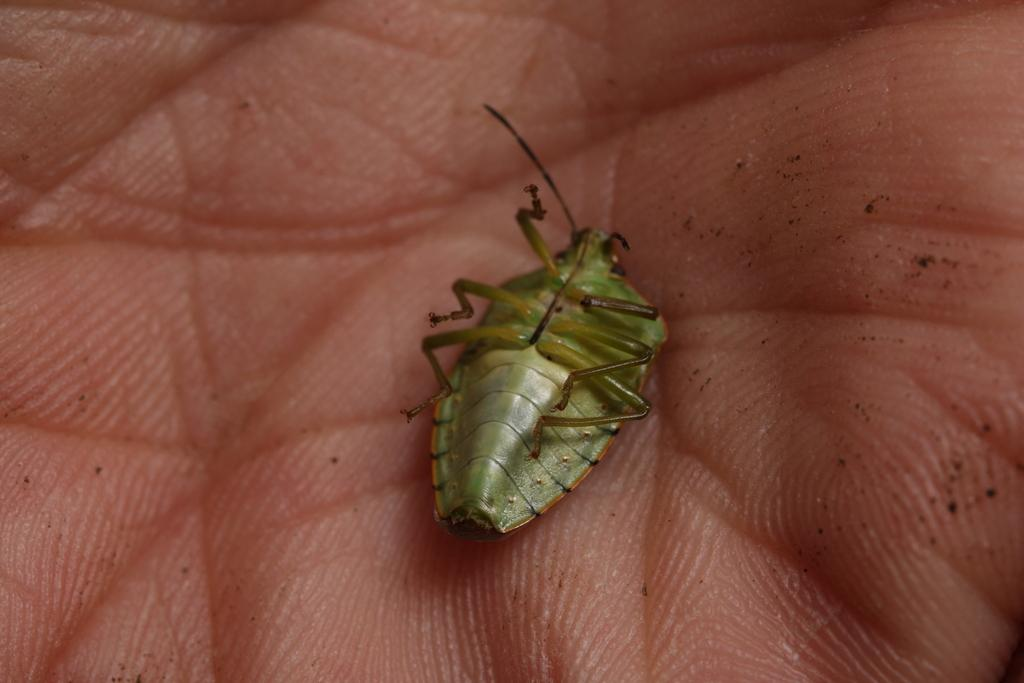stink_bugs: (325, 67, 731, 587)
